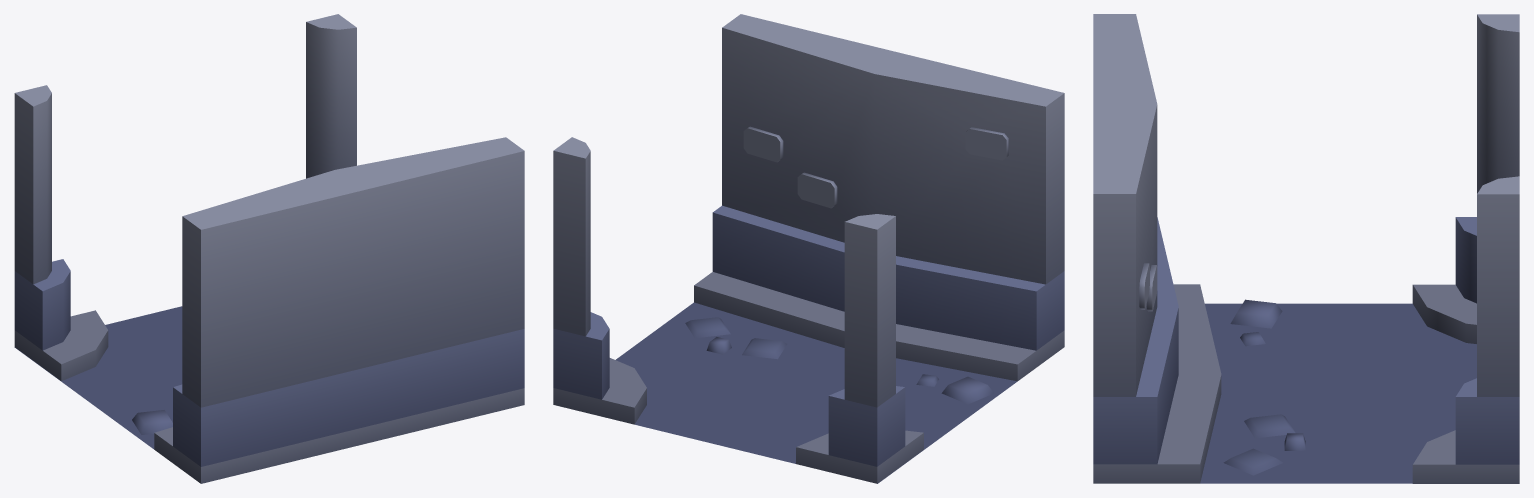
File: corridor-junction.glb
3 renders of one model, left to right at view 1: azimuth 30°, elevation 25°; view 2: azimuth 150°, elevation 25°; view 3: azimuth 270°, elevation 25°, orthographic. The views are drawn at different scales.
Parts seen in each view (by area): view 1: corridor-junction; view 2: corridor-junction; view 3: corridor-junction.
Part boxes in pixels (left/top/right/bottom): corridor-junction: left=14, top=14, right=524, bottom=483; corridor-junction: left=553, top=14, right=1064, bottom=483; corridor-junction: left=1093, top=14, right=1519, bottom=483.
Size of the model in its own units: 4.01 by 3 by 4.
